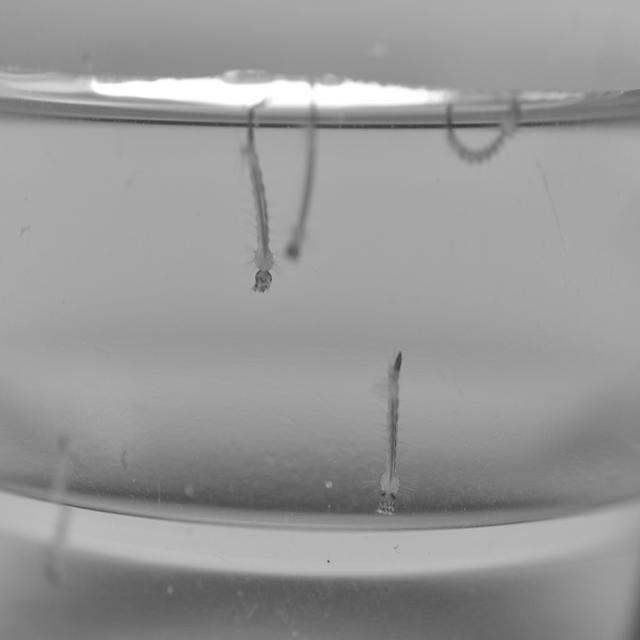larvas: (246, 101, 273, 293), (287, 103, 316, 258), (447, 105, 519, 161), (379, 351, 402, 512), (46, 502, 70, 582), (50, 448, 71, 503)
